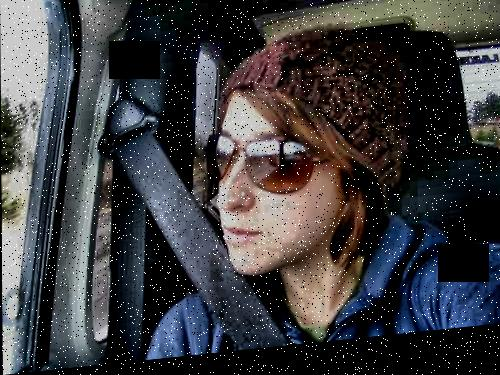seatbelt: (90, 95, 239, 340)
